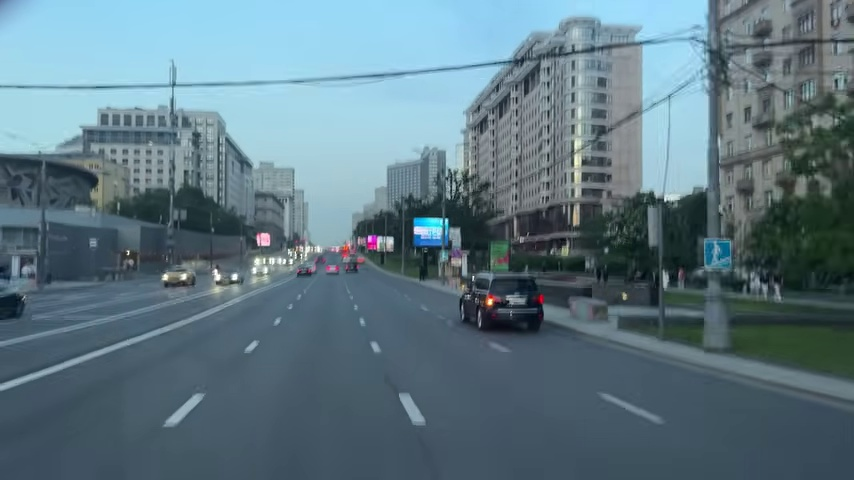apagada: (165, 392, 205, 431)
